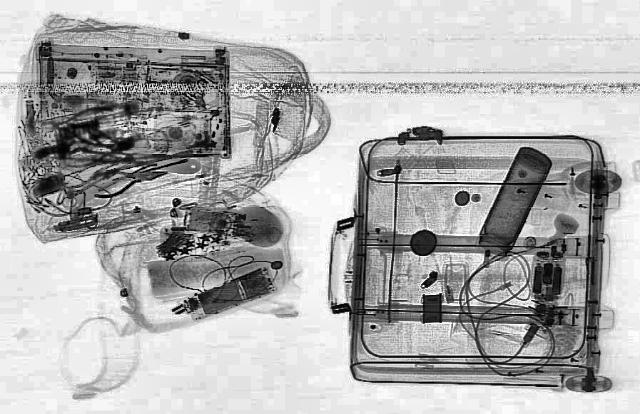Pliers: (81, 160, 172, 200)
